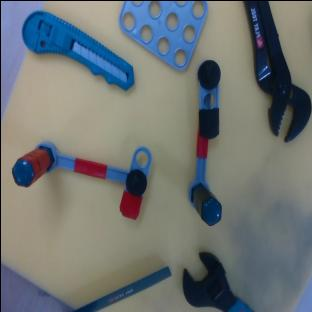non_pass: (187, 60, 220, 225)
pass: (7, 124, 152, 219)
